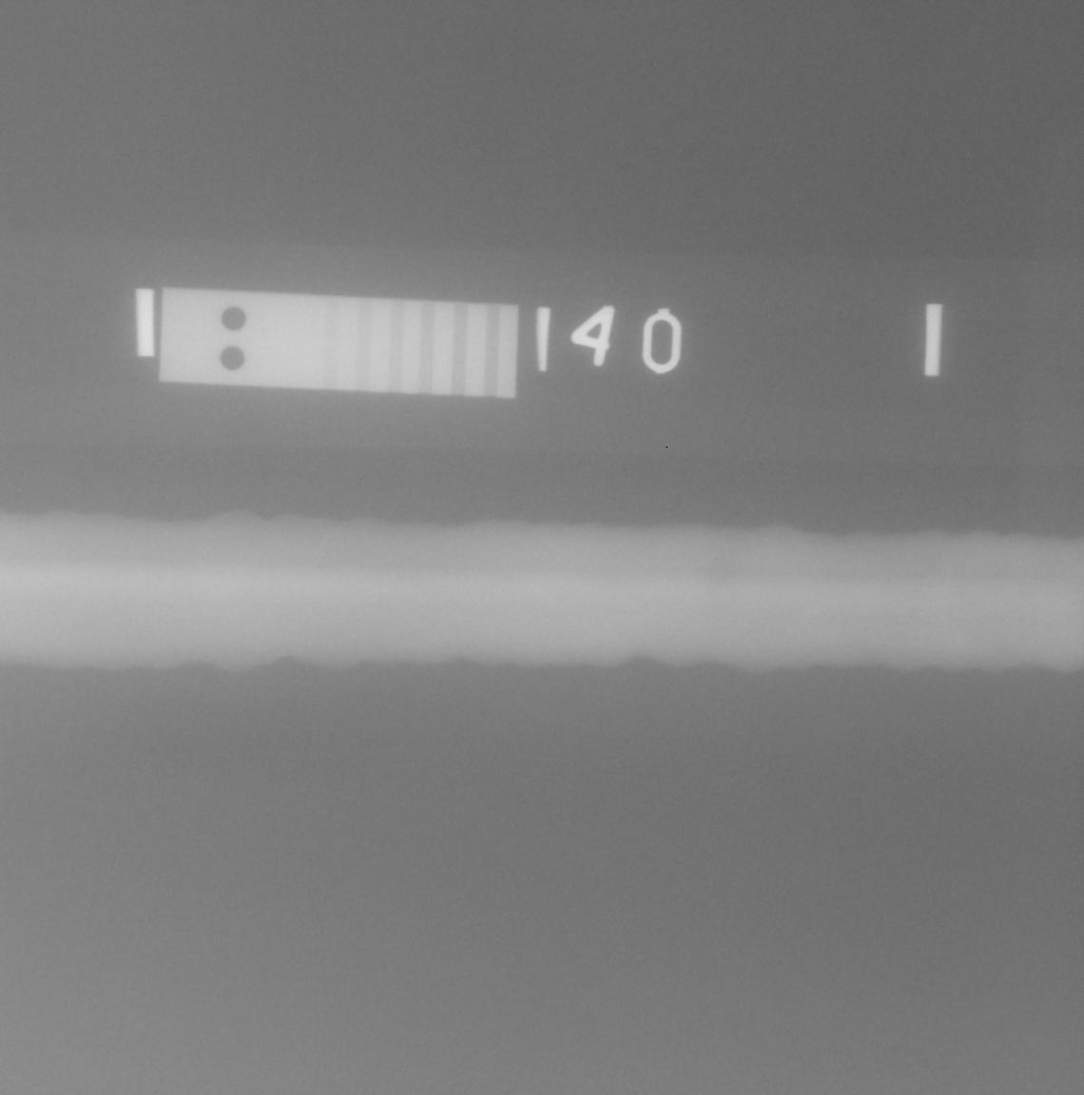Reference Standard 2: (158, 287, 519, 400)
